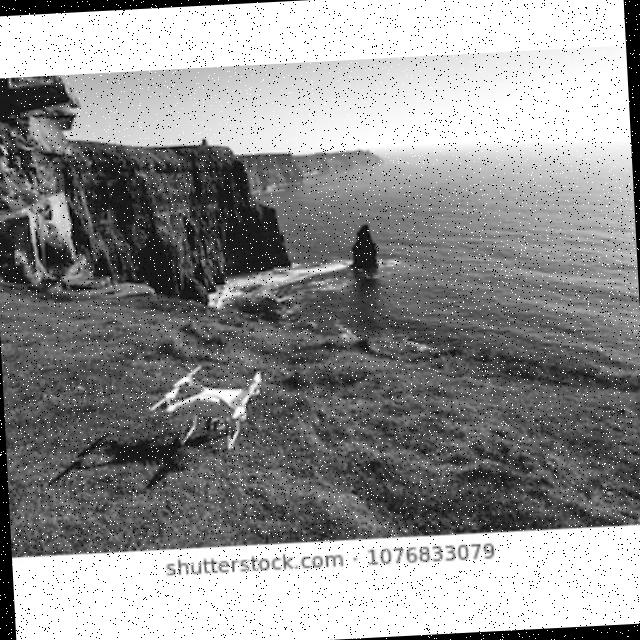Drones: (156, 355, 268, 447)
